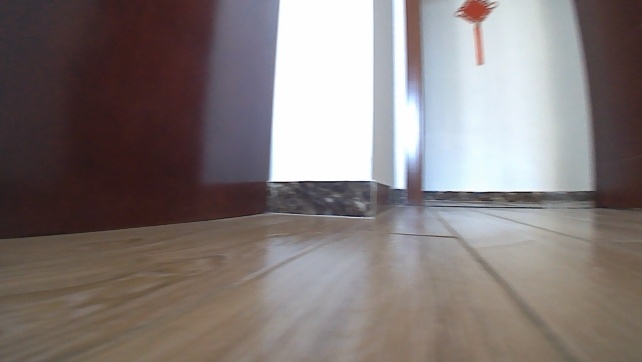door_anno: (0, 0, 282, 243)
